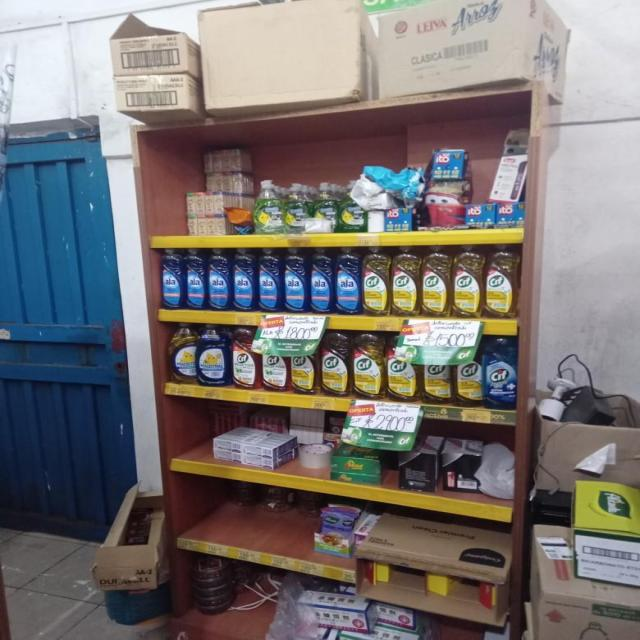ala_conc_azul: (335, 247, 361, 316), (309, 247, 334, 313), (284, 247, 308, 314), (159, 248, 184, 310), (258, 247, 282, 311), (232, 247, 256, 311), (208, 247, 230, 311), (185, 247, 206, 311)
cif_conc_bot_amarilla: (484, 243, 518, 319), (452, 244, 483, 318), (352, 332, 384, 400), (386, 335, 418, 402), (421, 245, 450, 317), (391, 245, 420, 317), (320, 331, 351, 397), (421, 339, 452, 405), (454, 338, 482, 408), (362, 246, 390, 316), (291, 331, 319, 395)
cif_conc_botella_roja: (231, 326, 260, 390), (261, 330, 290, 392)
cif_conc_botella_verde: (484, 335, 518, 410)
magistral_con_amarillo: (167, 322, 196, 384)
magistral_con_azul: (198, 323, 230, 387)
magistral_con_verde: (255, 180, 284, 235)
